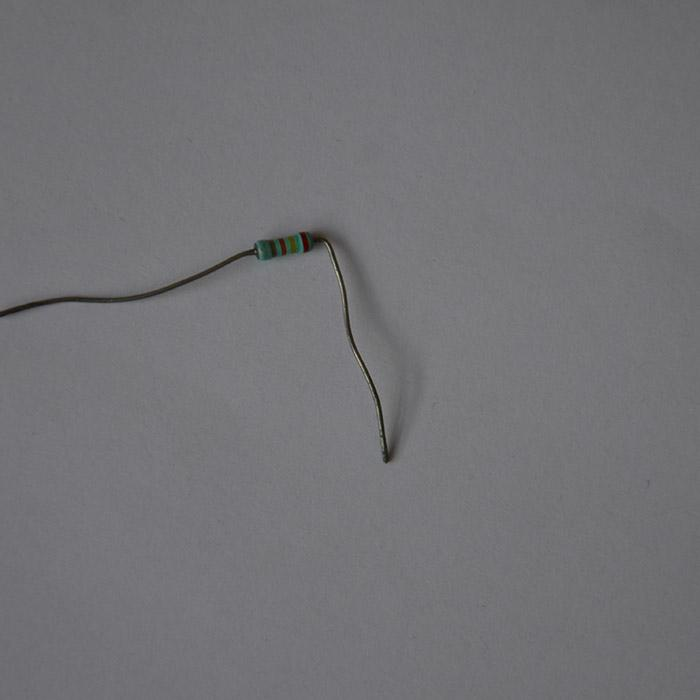resistor: (252, 230, 312, 260)
